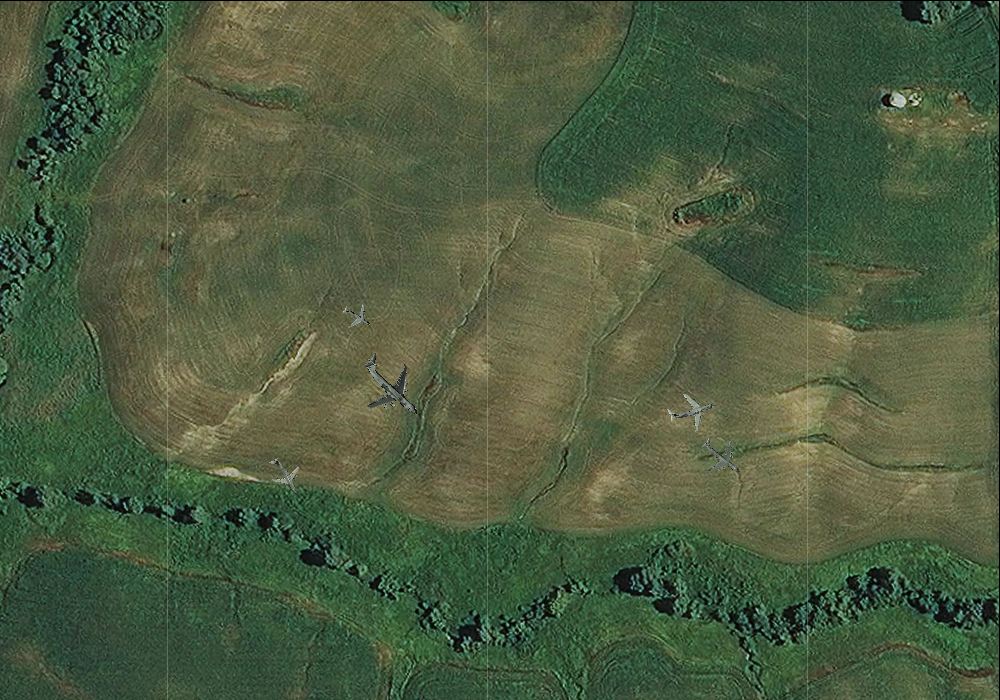plane: (342, 337, 441, 435), (690, 425, 753, 488), (662, 381, 721, 439), (259, 449, 310, 503), (335, 296, 377, 338)
